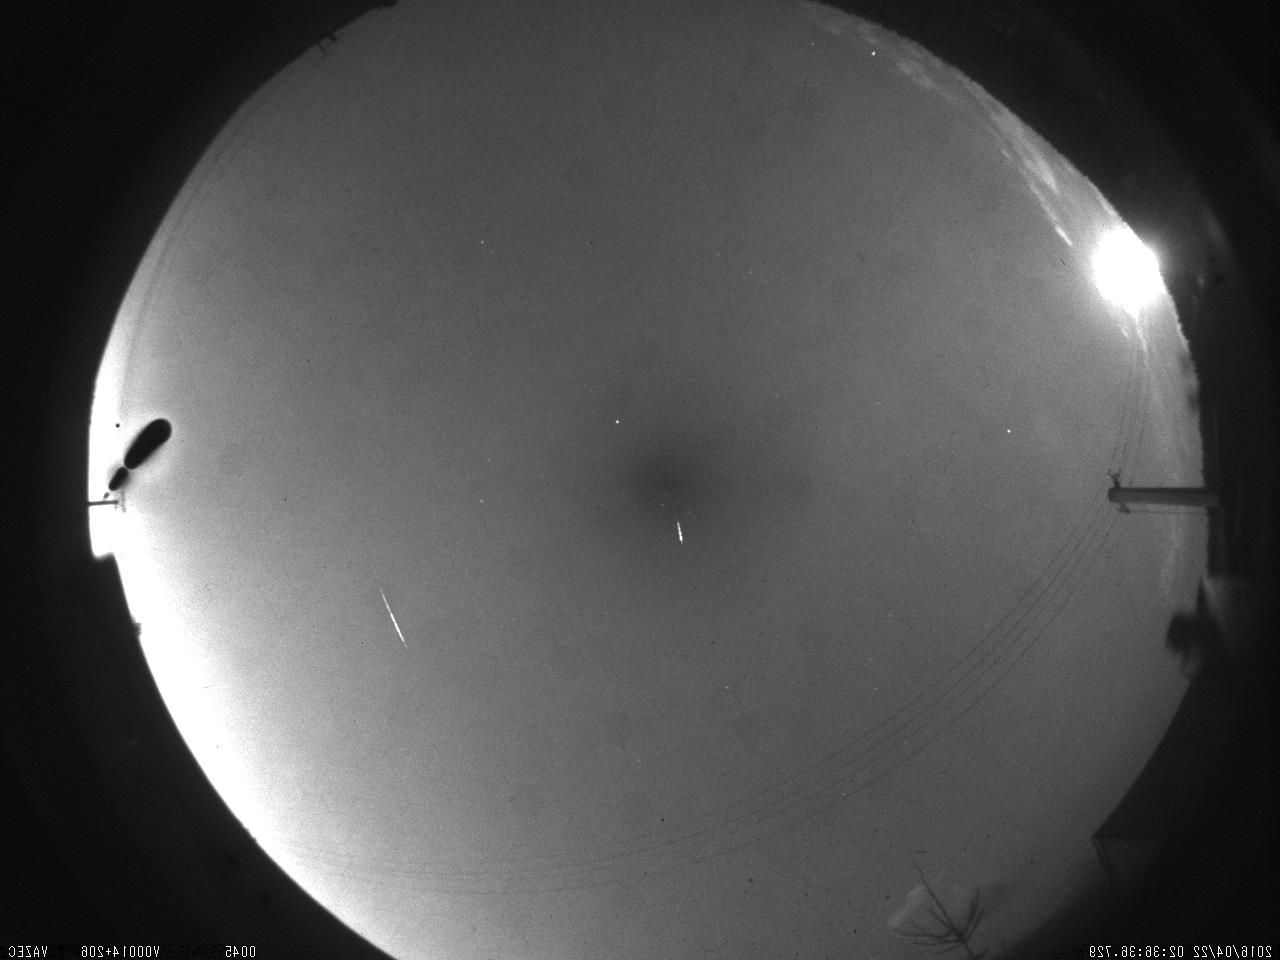meteor: (372, 585, 407, 650)
